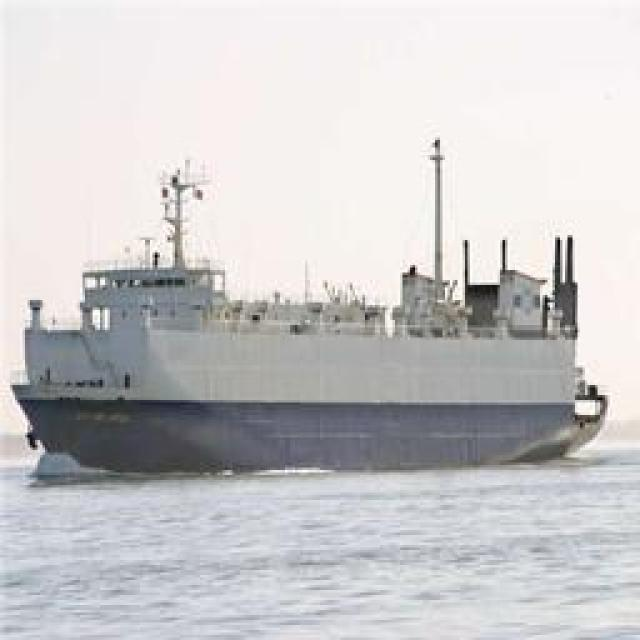ship2: (13, 141, 608, 479)
